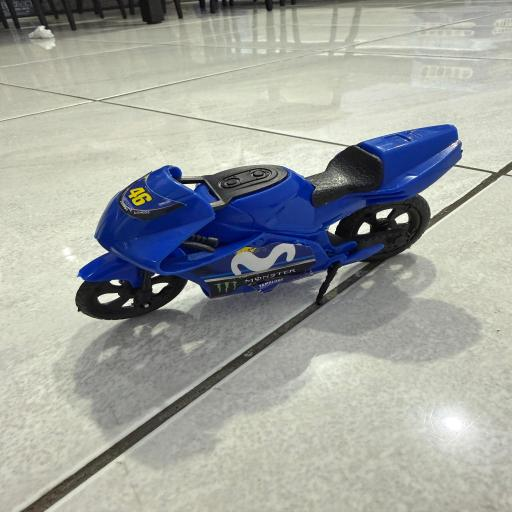motor-biru: (70, 118, 466, 324)
